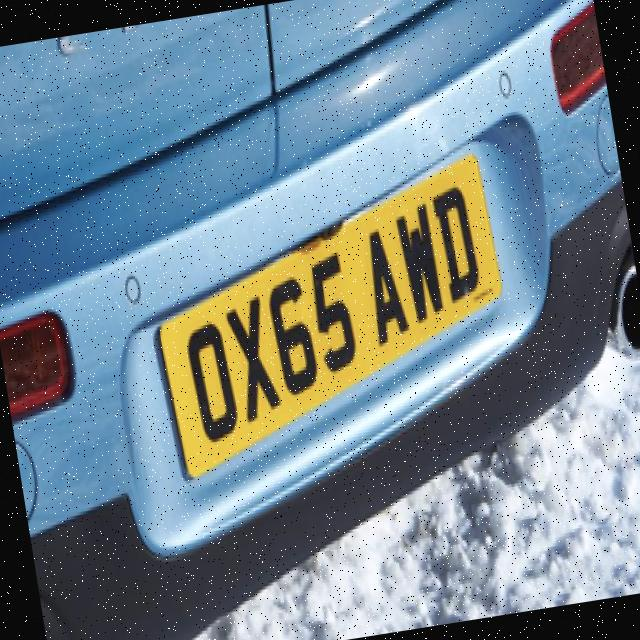Autre: (159, 152, 501, 477)
